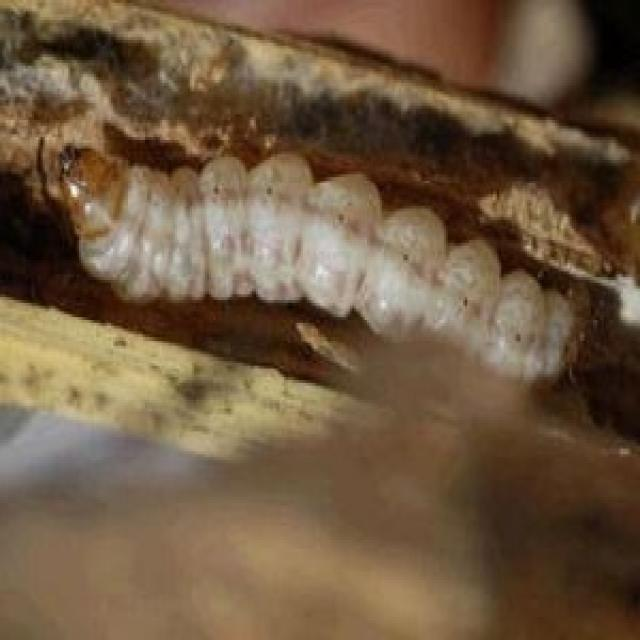peach borer: (43, 131, 582, 385)
